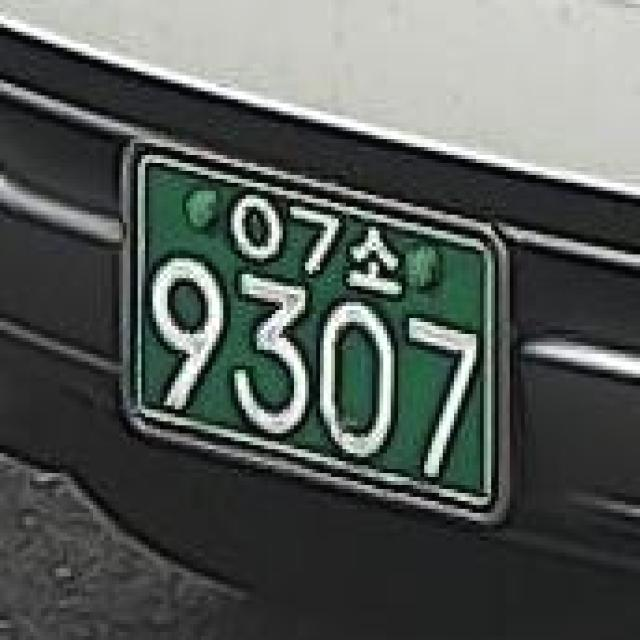illegal_plate: (104, 124, 523, 530)
